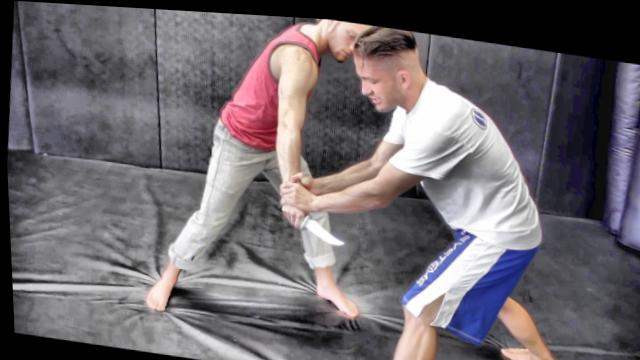knife: (273, 200, 347, 245)
